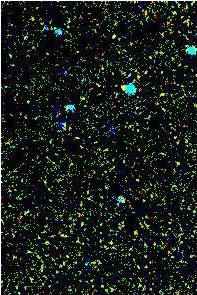star: (107, 71, 137, 101)
